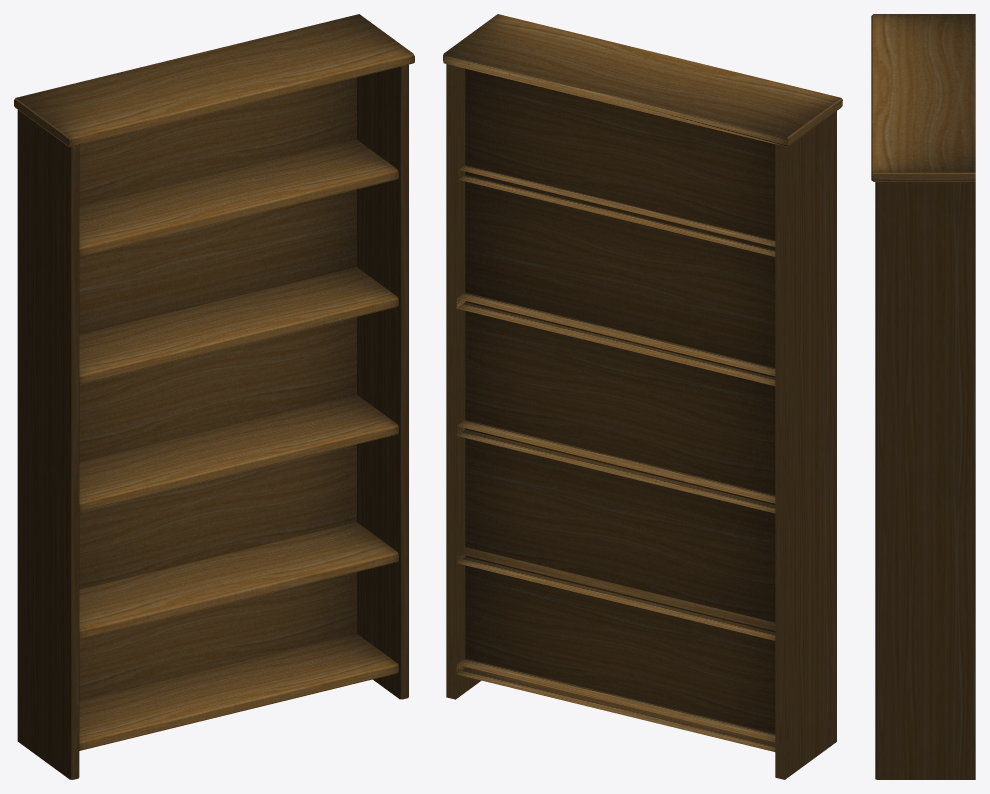
Rendered from bookcase_large.fbx.
3 renders of one model, left to right at view 1: azimuth 30°, elevation 25°; view 2: azimuth 150°, elevation 25°; view 3: azimuth 270°, elevation 25°, orthographic. The views are drawn at different scales.
Parts seen in each view (by area): view 1: bookcase_large; view 2: bookcase_large; view 3: bookcase_large.
Part boxes in pixels (left/top/right/bottom): bookcase_large: left=14, top=14, right=414, bottom=779; bookcase_large: left=443, top=14, right=842, bottom=779; bookcase_large: left=871, top=14, right=975, bottom=779.
Size of the model in its own units: 114 by 204 by 31.65.
